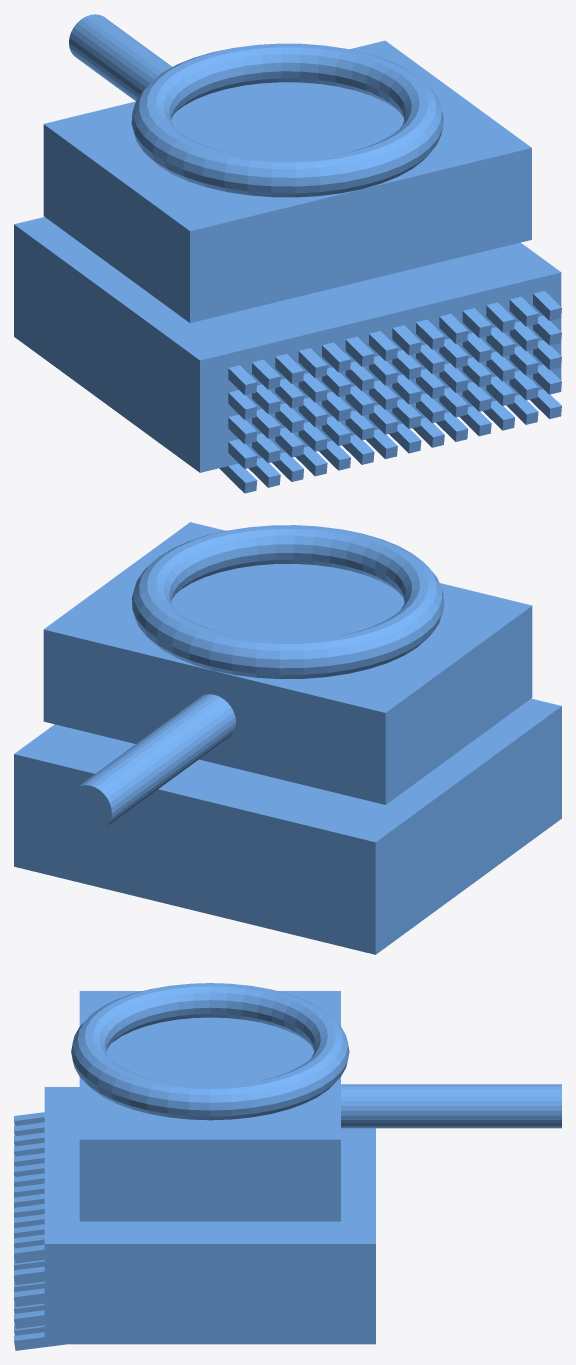
3 views of the same model, one above another, from view 1: azimuth 30°, elevation 25°; view 2: azimuth 150°, elevation 25°; view 3: azimuth 270°, elevation 25° (orthographic). The views are drawn at different scales.
Parts seen in each view (by area): view 1: rep_vehicle_bay_sketchfab_001; view 2: rep_vehicle_bay_sketchfab_001; view 3: rep_vehicle_bay_sketchfab_001.
Part boxes in pixels (left/top/right/bottom): rep_vehicle_bay_sketchfab_001: left=14, top=14, right=561, bottom=493; rep_vehicle_bay_sketchfab_001: left=14, top=522, right=561, bottom=954; rep_vehicle_bay_sketchfab_001: left=14, top=983, right=561, bottom=1350.
Size of the model in its own units: 1.85 by 1.34 by 2.73.
